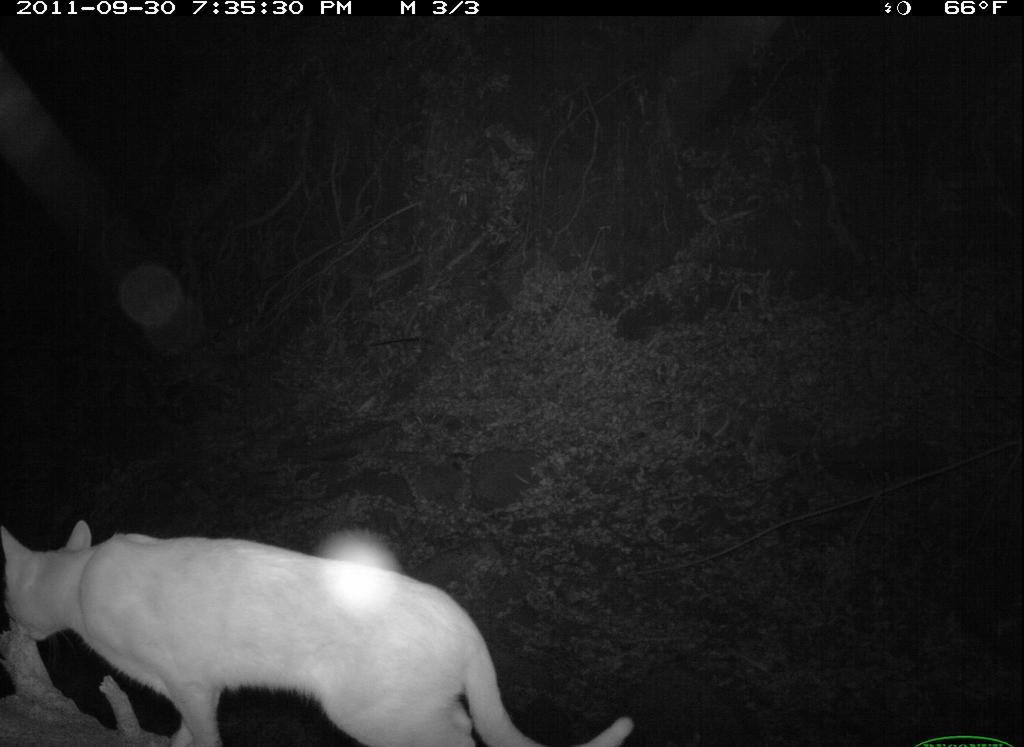cat: (1, 481, 652, 747)
